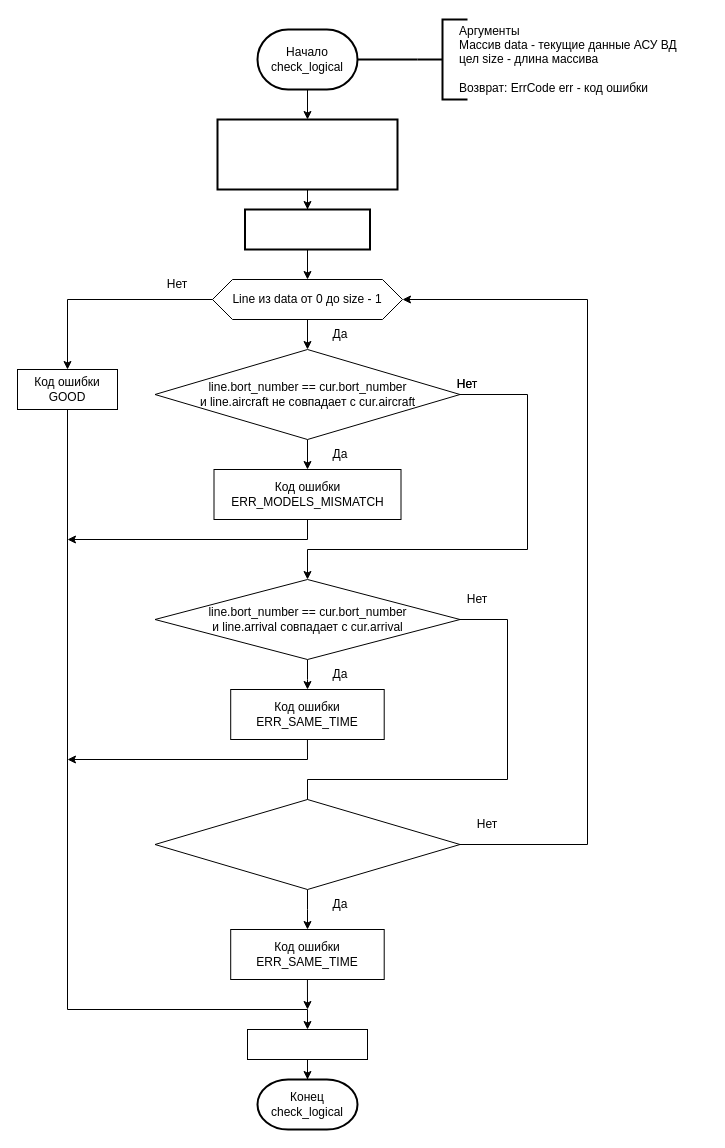
Some shapes in this 725 by 1148 pixel diagram are drawn without their labels. The box of each missing label's shape, as (x1, y1, x2, y2) in pixels:
cur = data[size]: (244, 208, 370, 250)
Line cur - последняя считанная строка Line line - строка для перебора в цикле: (216, 118, 398, 190)
line.flight_number == cur.flight_number и line.arrival совпадает с cur.arrival: (154, 798, 460, 890)
Возврат кода ошибки: (246, 1028, 368, 1060)
